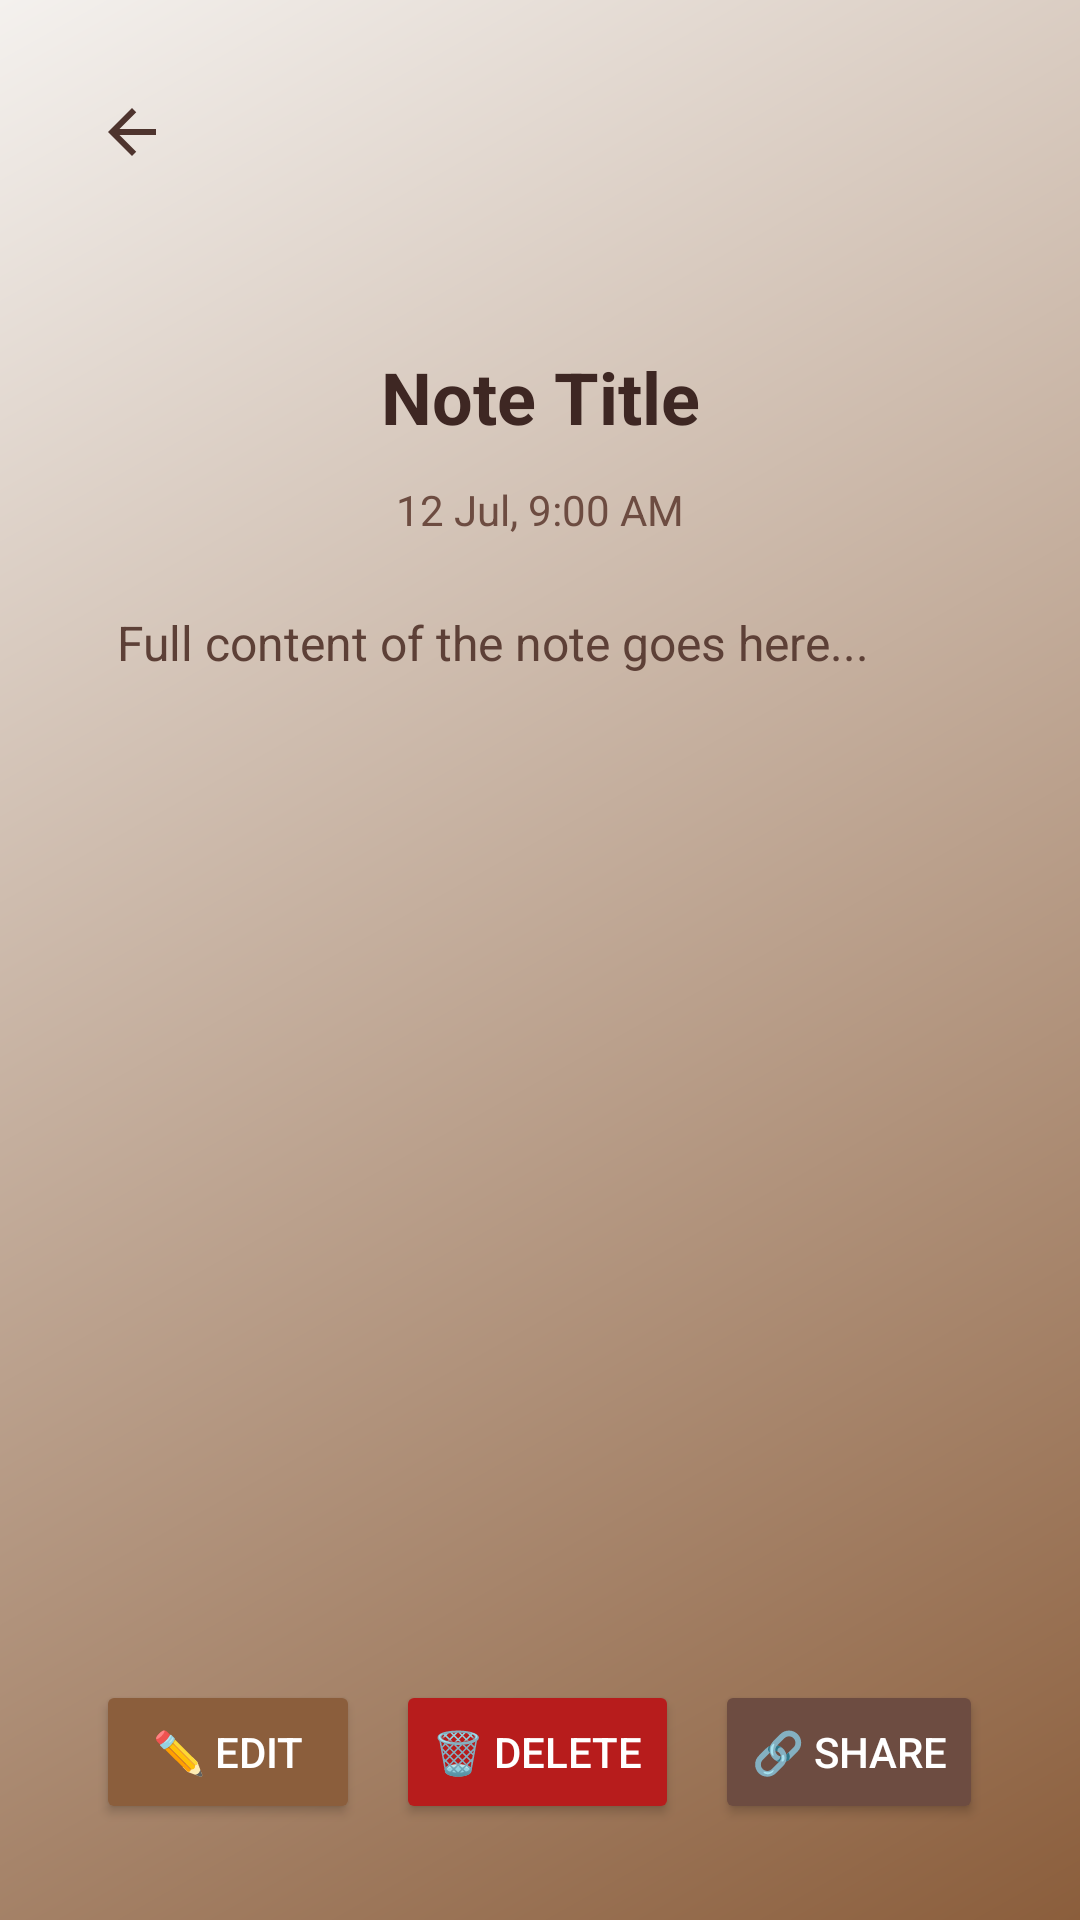

Screen size 1080 × 1920. Icon name, then its box in pixels as (x1, y1, x2, y2):
Back: (108, 108, 156, 156)
